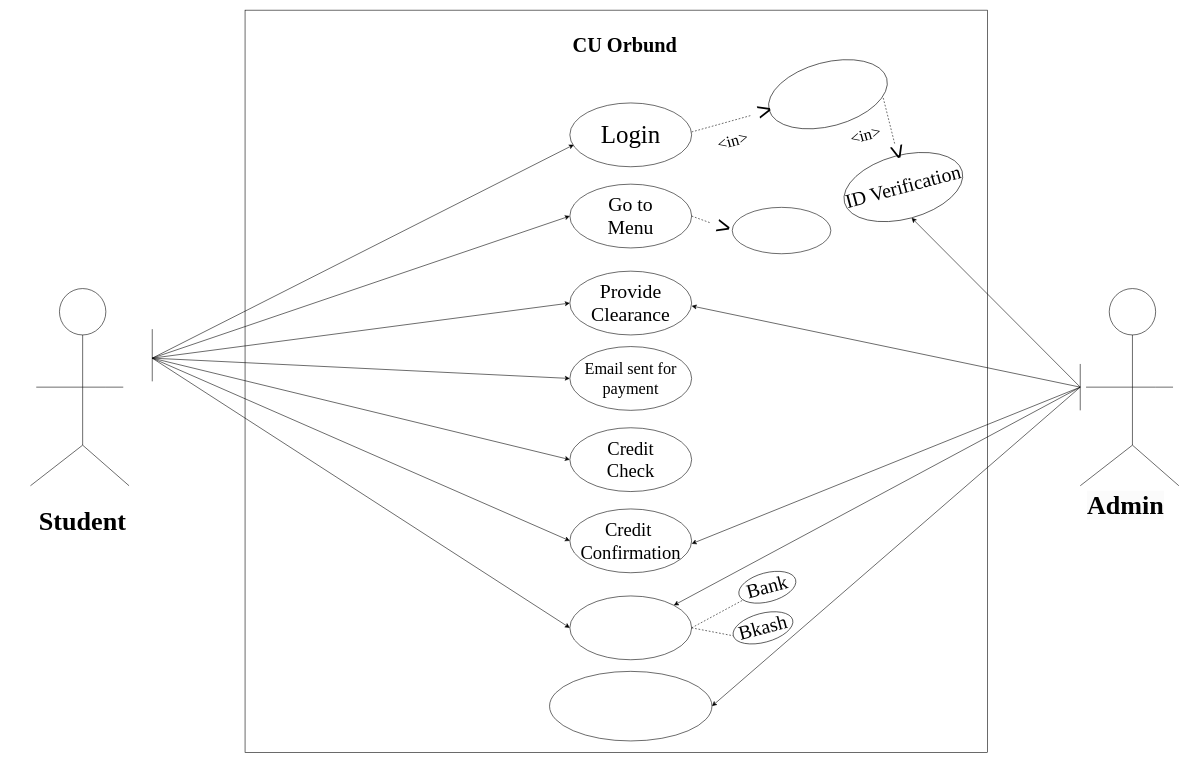
Image size: 1200x763. Some labels were removed from this diagram. Here are the shapes that lost their labels. From the top down, the box of each, then its label:
(760, 47, 895, 141): Registration
(732, 207, 831, 254): Select Doc
(569, 595, 692, 660): Payment
(549, 671, 712, 741): Email Sent for Doc Collection
